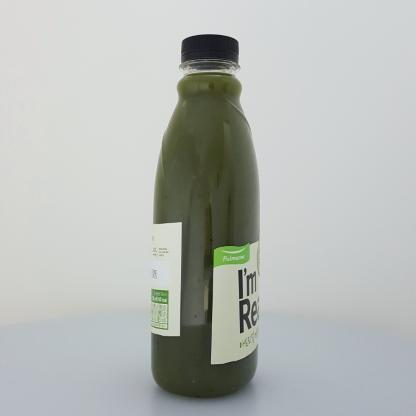-----------700ML: (151, 34, 261, 398)
